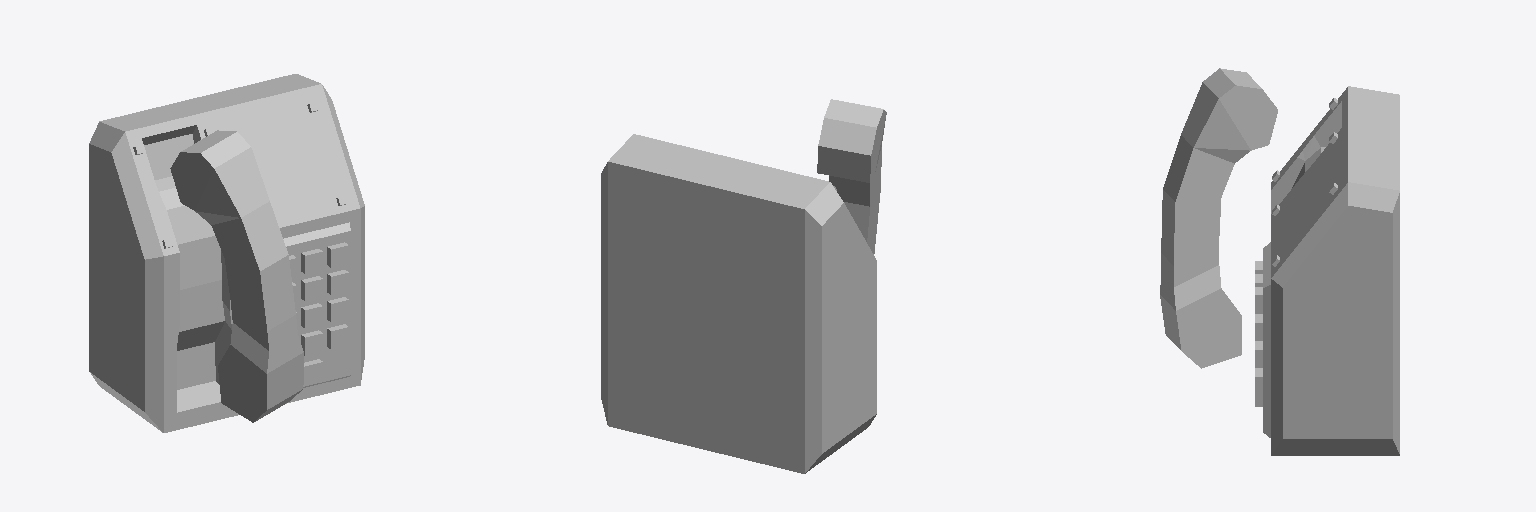
The model's file is Phone_Pickup16.obj.
The picture shows the model from 3 angles: view 1: azimuth 30°, elevation 25°; view 2: azimuth 150°, elevation 25°; view 3: azimuth 270°, elevation 25°; orthographic projection.
Parts seen in each view (by area): view 1: Phonebox, Phone; view 2: Phonebox, Phone; view 3: Phonebox, Phone.
Part boxes in pixels (bbox=[...]): Phonebox: bbox=[89, 74, 364, 432]; Phone: bbox=[170, 130, 303, 422]; Phonebox: bbox=[601, 134, 876, 473]; Phone: bbox=[817, 99, 886, 253]; Phonebox: bbox=[1255, 86, 1399, 455]; Phone: bbox=[1160, 68, 1277, 368].
Bounding box in the file's own units: 0.2602 × 0.3394 × 0.2454.